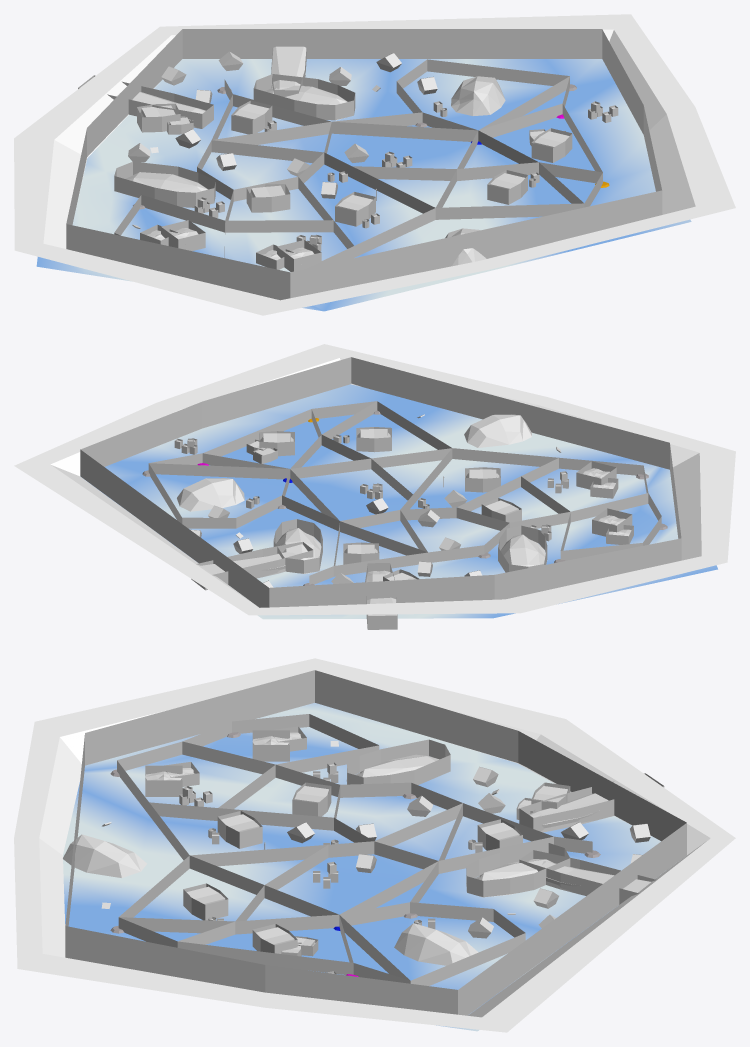
File: Sagittarius.fbx
The picture shows the model from 3 angles, top to bottom: view 1: azimuth 30°, elevation 25°; view 2: azimuth 150°, elevation 25°; view 3: azimuth 270°, elevation 25°; orthographic projection. The views are drawn at different scales.
Parts seen in each view (by area): view 1: GeometryGround, GeometryWalls, Boundary, Pathfinding, DecorBoundary Rock003, DecorBoundary Rock003.001, Decor Rock003.002, DecorBoundary Rock004.002, Decor Rock001, Decor Rock003, DecorBoundary Rock002, DecorBoundary Rock004.004 (+9 smaller); view 2: GeometryGround, Boundary, GeometryWalls, Pathfinding, Decor Rock003.003, Decor Rock003.002, DecorBoundary Rock004.001, DecorBoundary Rock003.001, Decor Rock003, DecorBoundary Rock003, Decor Rock003.001, DecorBoundary Rock004.002 (+8 smaller); view 3: GeometryGround, GeometryWalls, Boundary, Pathfinding, DecorBoundary Rock003, DecorBoundary Rock003.001, Decor Rock003.003, Decor Rock003.002, DecorBoundary Rock004.001, DecorBoundary Rock004.002, Decor Rock001.001, Decor Rock001 (+9 smaller).
Part boxes in pixels (bbox=[...]): GeometryGround: bbox=[36, 59, 691, 311]; GeometryWalls: bbox=[14, 14, 735, 315]; Boundary: bbox=[66, 29, 662, 300]; Pathfinding: bbox=[114, 59, 602, 268]; DecorBoundary Rock003: bbox=[114, 161, 215, 207]; DecorBoundary Rock003.001: bbox=[253, 74, 355, 120]; Decor Rock003.002: bbox=[451, 76, 505, 115]; DecorBoundary Rock004.002: bbox=[78, 75, 213, 128]; Decor Rock001: bbox=[271, 46, 306, 89]; Decor Rock003: bbox=[116, 172, 207, 198]; DecorBoundary Rock002: bbox=[246, 184, 290, 212]; DecorBoundary Rock004.004: bbox=[161, 220, 205, 250]; GeometryGround: bbox=[80, 384, 717, 619]; Boundary: bbox=[80, 357, 681, 607]; GeometryWalls: bbox=[14, 344, 735, 615]; Pathfinding: bbox=[148, 401, 661, 584]; Decor Rock003.003: bbox=[464, 414, 531, 447]; Decor Rock003.002: bbox=[177, 478, 244, 511]; DecorBoundary Rock004.001: bbox=[191, 542, 313, 590]; DecorBoundary Rock003.001: bbox=[273, 519, 322, 573]; Decor Rock003: bbox=[500, 534, 547, 566]; DecorBoundary Rock003: bbox=[498, 525, 547, 572]; Decor Rock003.001: bbox=[276, 528, 322, 573]; DecorBoundary Rock004.002: bbox=[365, 563, 397, 629]; GeometryGround: bbox=[63, 703, 660, 1031]; GeometryWalls: bbox=[14, 658, 735, 1032]; Boundary: bbox=[65, 670, 686, 1015]; Pathfinding: bbox=[117, 714, 592, 985]; DecorBoundary Rock003: bbox=[347, 739, 450, 784]; DecorBoundary Rock003.001: bbox=[466, 843, 570, 897]; Decor Rock003.003: bbox=[63, 834, 146, 877]; Decor Rock003.002: bbox=[394, 923, 478, 965]; DecorBoundary Rock004.001: bbox=[519, 850, 656, 904]; DecorBoundary Rock004.002: bbox=[519, 773, 664, 831]; Decor Rock001.001: bbox=[528, 793, 608, 832]; Decor Rock001: bbox=[541, 861, 650, 892].
Bounding box in the file's own units: 24511 × 1397 × 19977.
